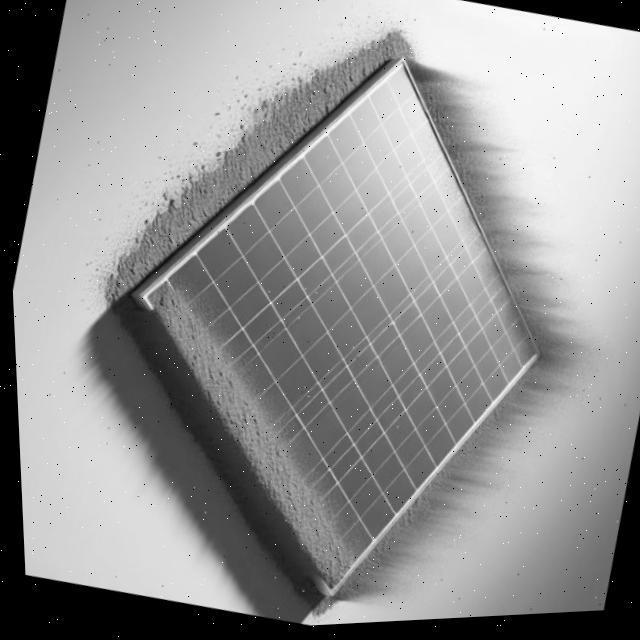Anomaly Solar Panel: (109, 66, 618, 596)
Surface Contaminant: (140, 265, 371, 594)
